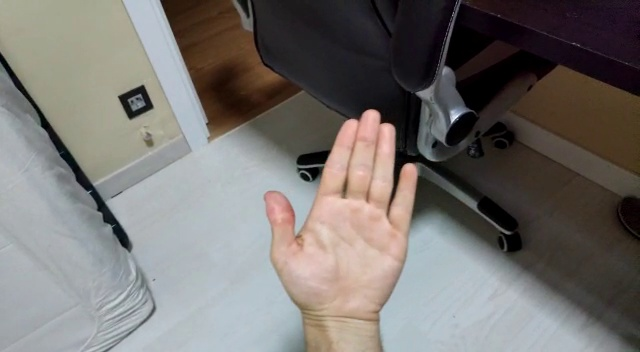Palm: (262, 106, 425, 336)
